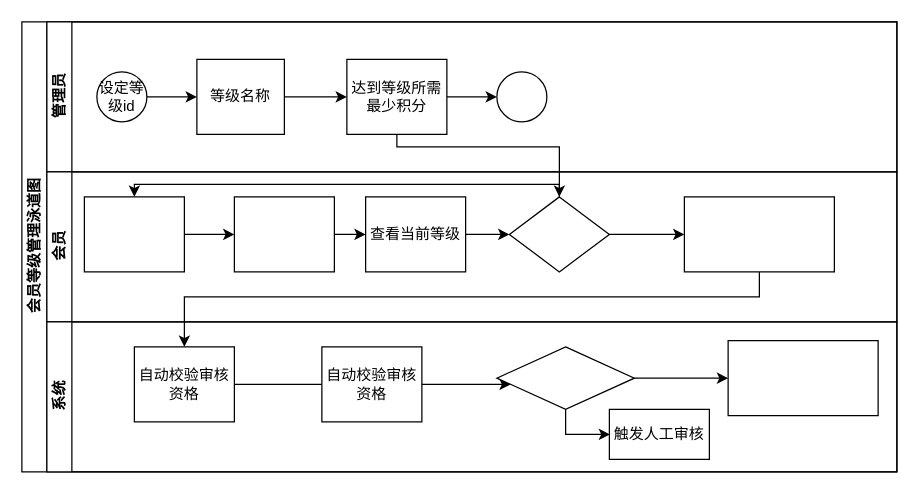
Some shapes in this 919 by 494 pixel diagram are drawn without their labels. Here are the shapes that lost their labels. From the top down, the centre of each, then its label:
pixel 133 234: 消费
pixel 283 234: 获得积分
pixel 558 234: 是非符合升级条件
pixel 758 234: 提交升级申请
pixel 565 377: 是否需要人工审核
